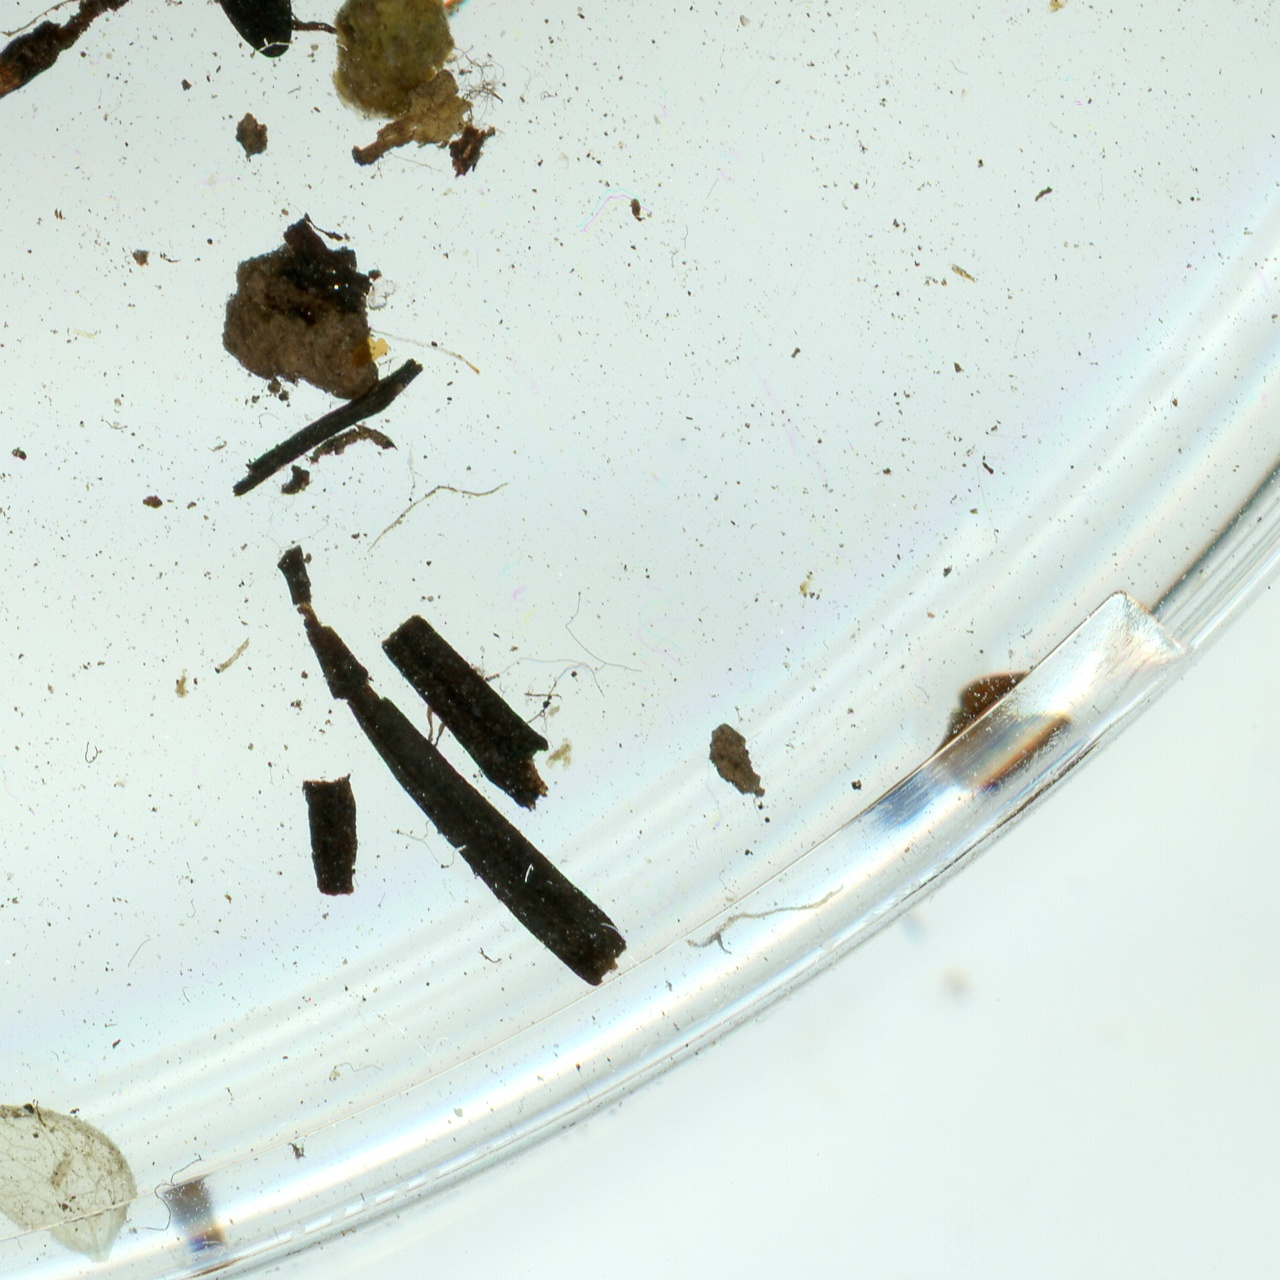arthropod: (205, 437, 231, 454)
